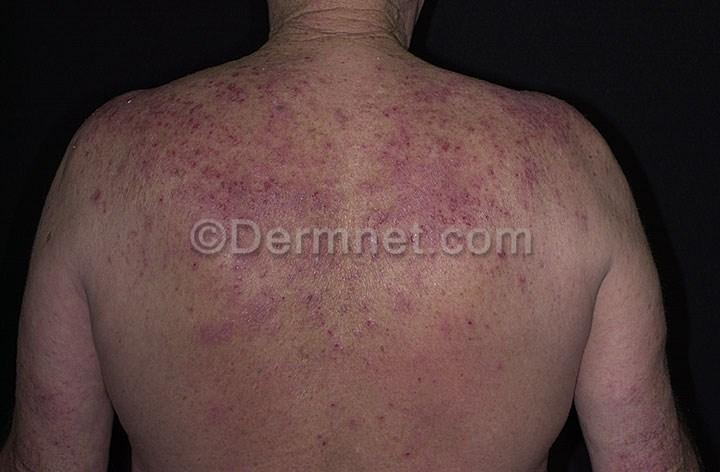Eczema: (182, 251, 545, 417), (99, 82, 367, 222), (379, 87, 558, 220), (12, 367, 84, 472), (587, 418, 705, 472)
